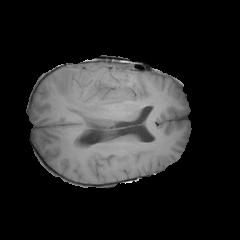glioma: (54, 71, 169, 130)
